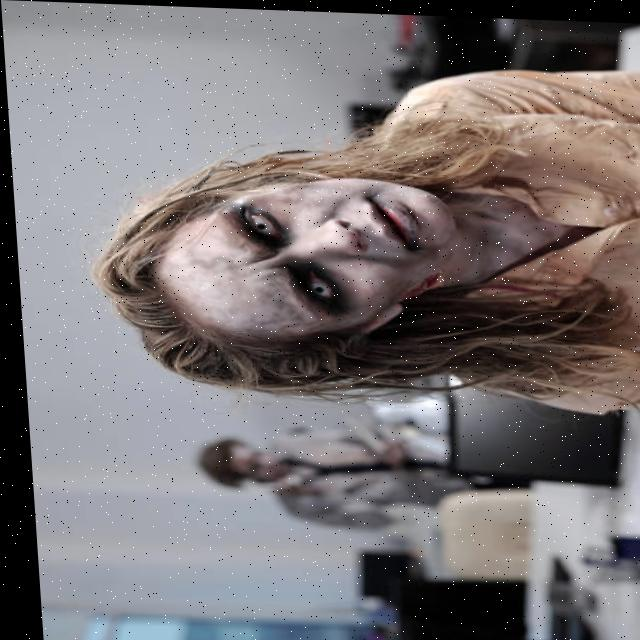Zombie: (129, 128, 466, 376)
